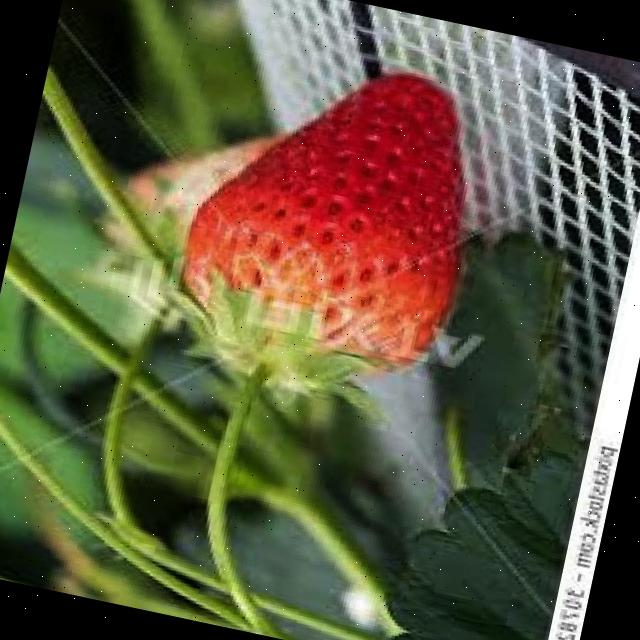strawberry: (168, 34, 500, 381)
